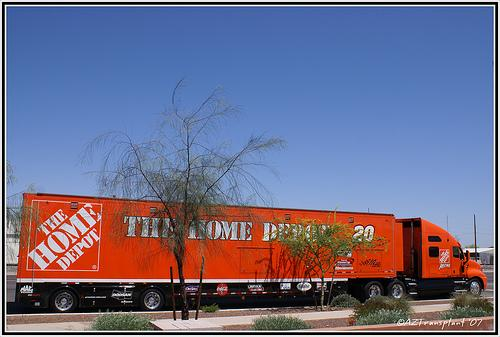truck: (14, 191, 488, 314)
